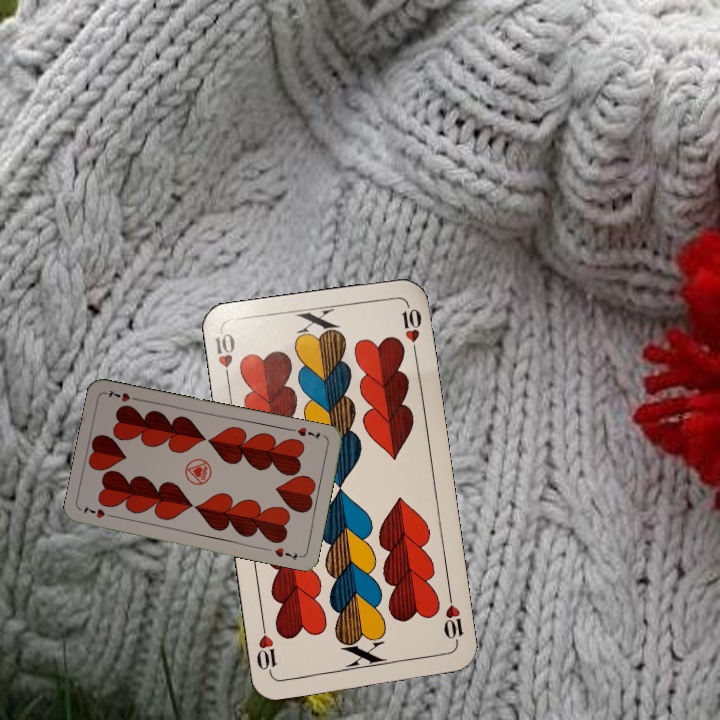H10: (210, 328, 238, 387), (440, 589, 466, 648)
H7: (80, 502, 118, 521), (293, 423, 323, 442)
